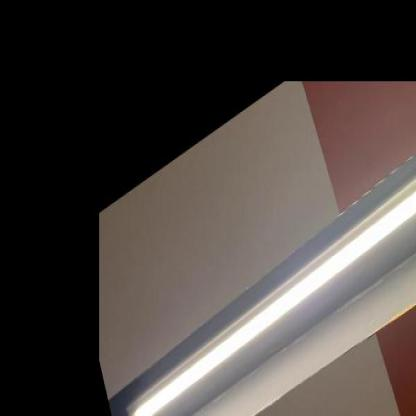light_on: (106, 106, 415, 415)
